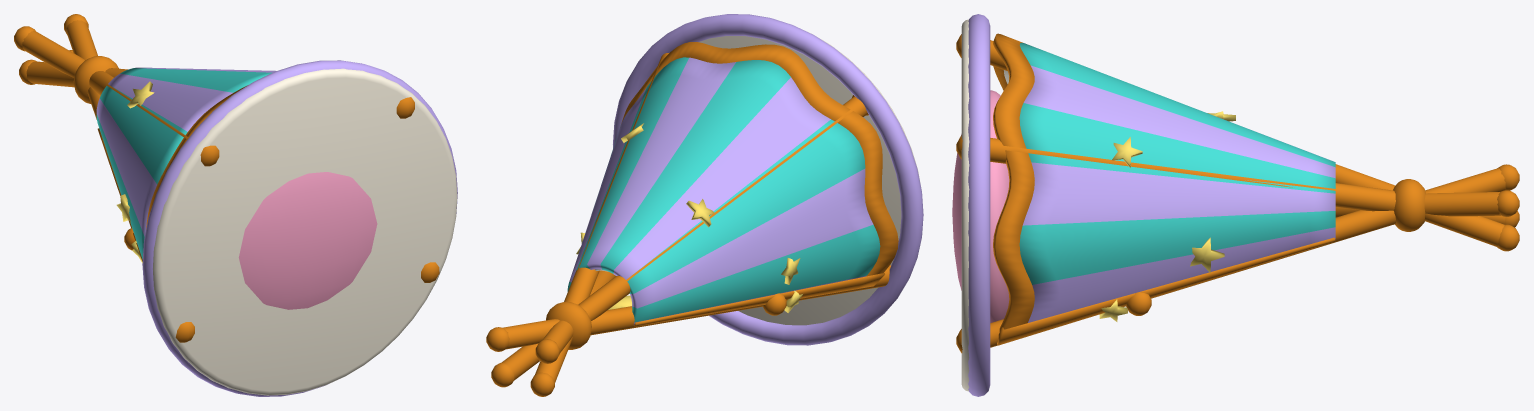
File: BedroomStarCanopy_Premium.fbx
The picture shows the model from 3 angles, left to right: view 1: azimuth 30°, elevation 25°; view 2: azimuth 150°, elevation 25°; view 3: azimuth 270°, elevation 25°; orthographic projection. The views are drawn at different scales.
Visible parts, largest first — view 1: BedroomStarCanopy; view 2: BedroomStarCanopy; view 3: BedroomStarCanopy.
Boxes of the visible parts, x1,y1,x2,y2 form: BedroomStarCanopy: (14,14,457,396); BedroomStarCanopy: (486,14,923,396); BedroomStarCanopy: (952,14,1519,396).
Size of the model in its own units: 1.03 by 1.03 by 1.52.
